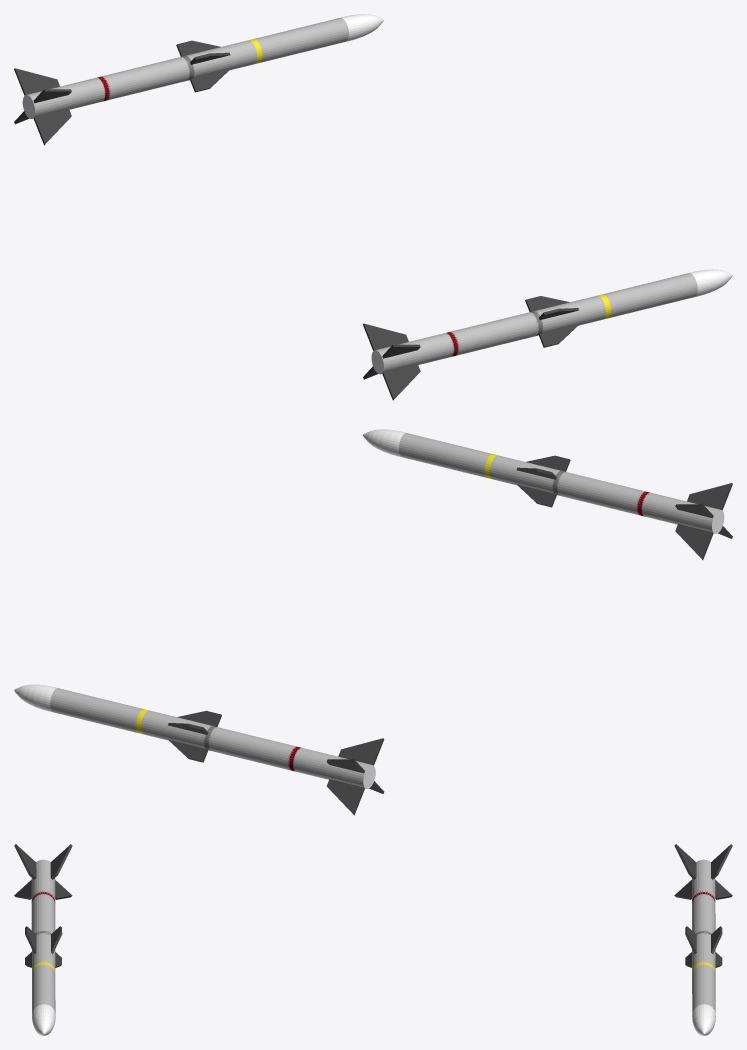
Rendered from aam4lf2a25.glb.
3 views of the same model, one above another, from view 1: azimuth 30°, elevation 25°; view 2: azimuth 150°, elevation 25°; view 3: azimuth 270°, elevation 25° (orthographic). The views are drawn at different scales.
Parts seen in each view (by area): view 1: 球.002, 球.001; view 2: 球.002, 球.001; view 3: 球.002, 球.001.
Boxes of the visible parts, left/top/right/bottom form: 球.002: left=363, top=269, right=732, bottom=400; 球.001: left=14, top=14, right=383, bottom=145; 球.002: left=363, top=429, right=732, bottom=559; 球.001: left=14, top=684, right=384, bottom=815; 球.002: left=14, top=844, right=72, bottom=1035; 球.001: left=674, top=844, right=732, bottom=1035.
Bounding box in the file's own units: 4.82 × 0.7293 × 8.91.
3 materials, 1 textured.
